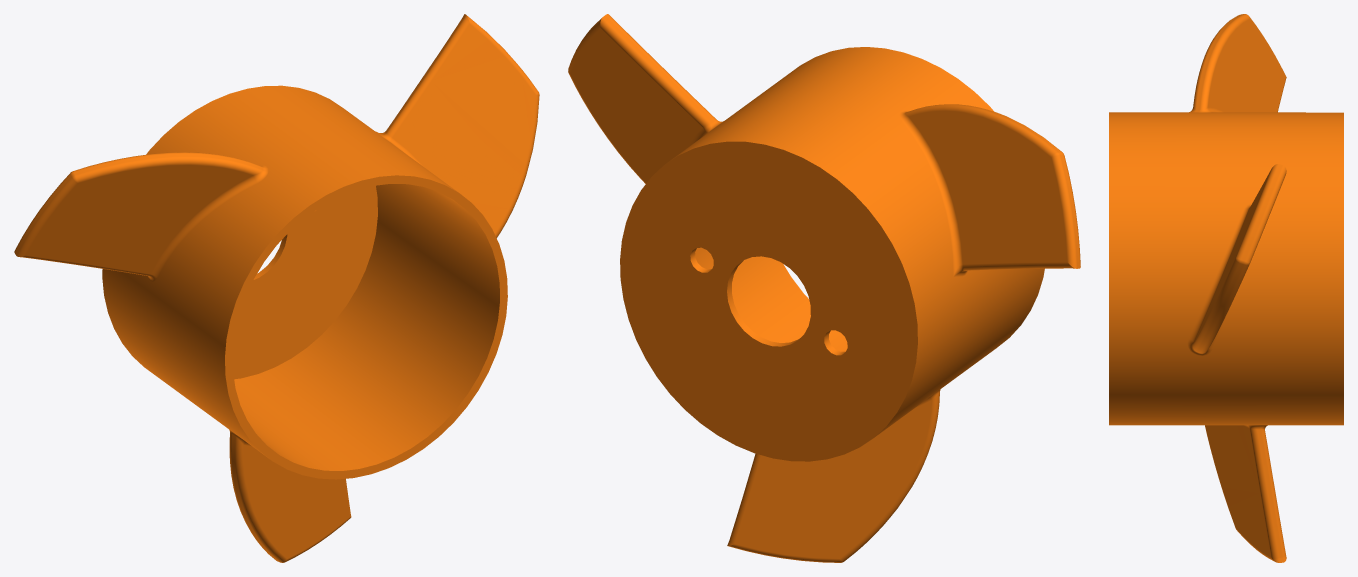
3 views of the same model, side by side, from view 1: azimuth 30°, elevation 25°; view 2: azimuth 150°, elevation 25°; view 3: azimuth 270°, elevation 25° (orthographic). The views are drawn at different scales.
Visible parts, largest first — view 1: T200-CW; view 2: T200-CW; view 3: T200-CW.
Boxes of the visible parts, x1=… form: T200-CW: x1=14, y1=14, x2=539, y2=562; T200-CW: x1=568, y1=14, x2=1080, y2=562; T200-CW: x1=1109, y1=14, x2=1343, y2=562.
Bounding box in the file's own units: 0.0711 × 0.03 × 0.0653.
